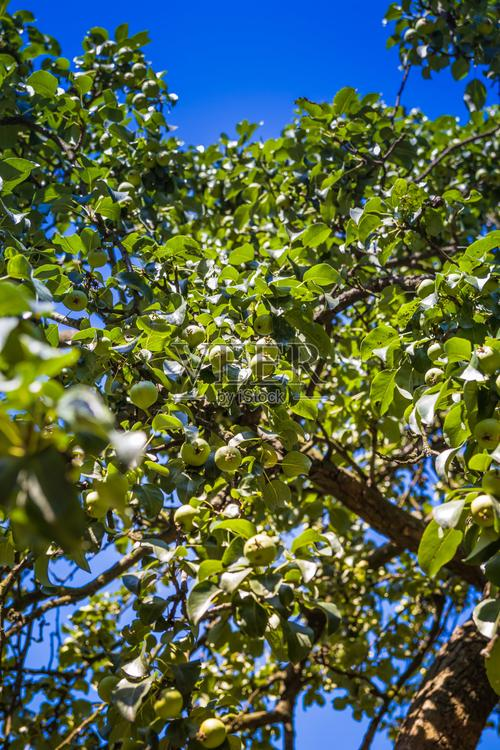unripe: (180, 706, 235, 750), (235, 532, 285, 576), (77, 484, 126, 528), (145, 681, 186, 716), (126, 373, 159, 411), (176, 432, 210, 467), (214, 438, 245, 474), (473, 417, 500, 448)
